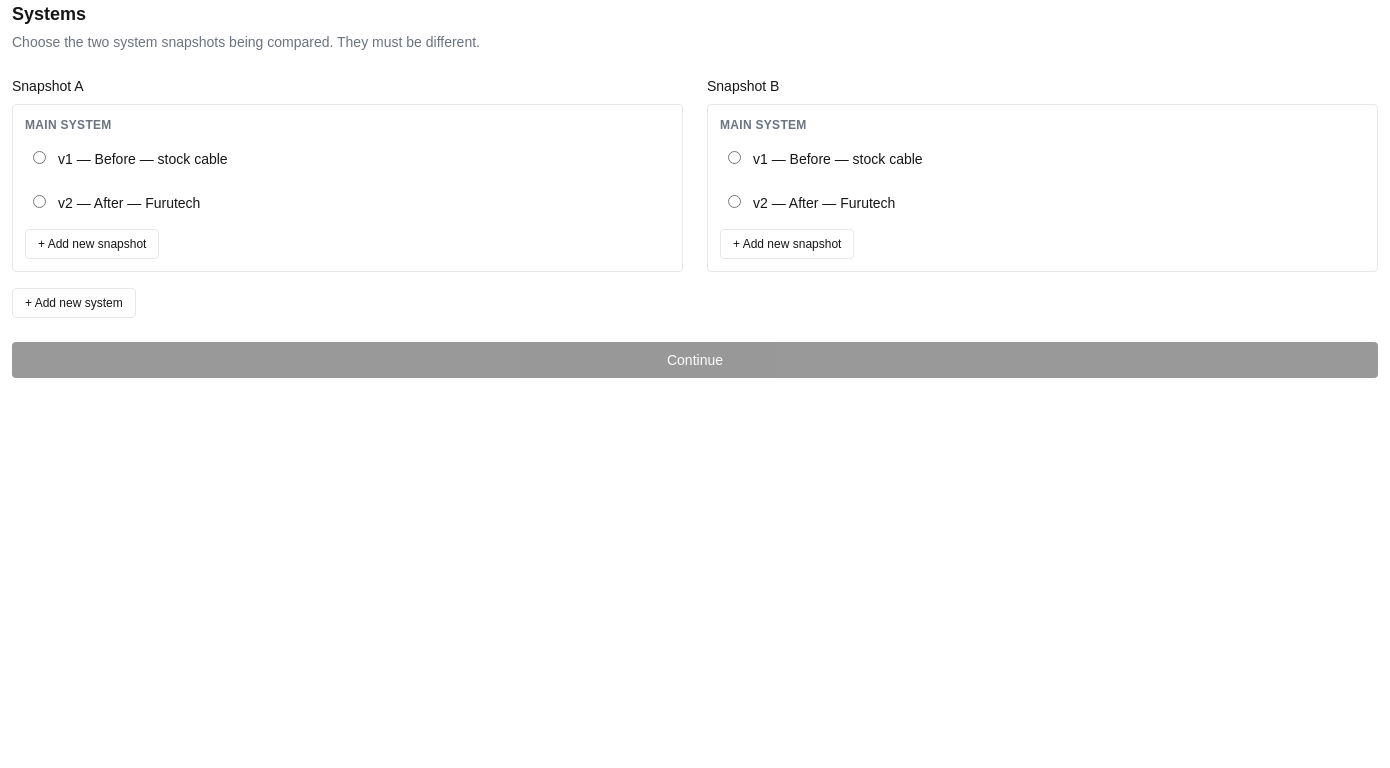
Scenario: StepSnapshots › Inline form — validation › disables "Add snapshot" when label is empty and enables it when filled
Click the button "+ Add new snapshot" below "Snapshot A". click: (92, 244)
box: [25,229,159,259]
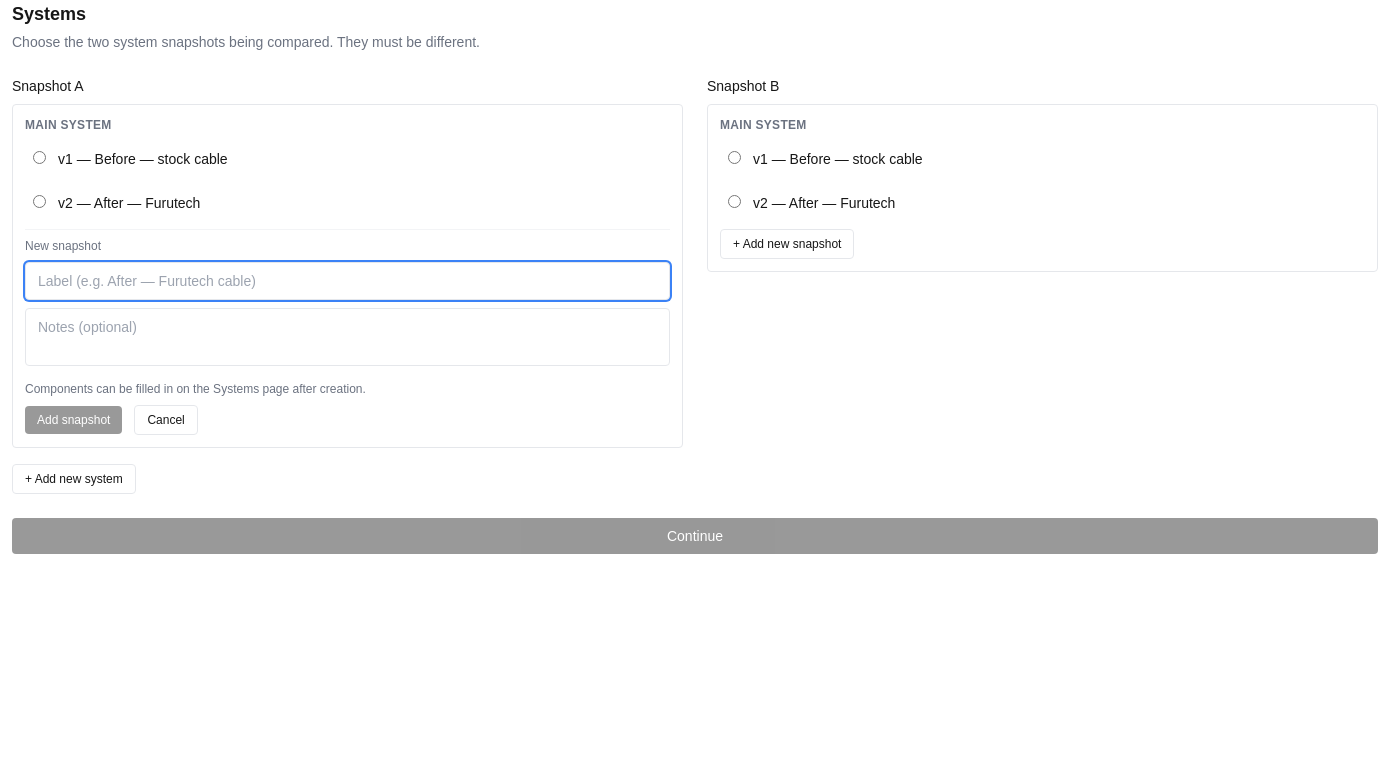
Expected: the button "Add snapshot" is disabled, [25,406,122,434]
# Enabled after typing
Type "New label" into the field with placeholder "Label (e.g. After — Furutech cable)". click: (348, 281)
box: [25,262,670,300]
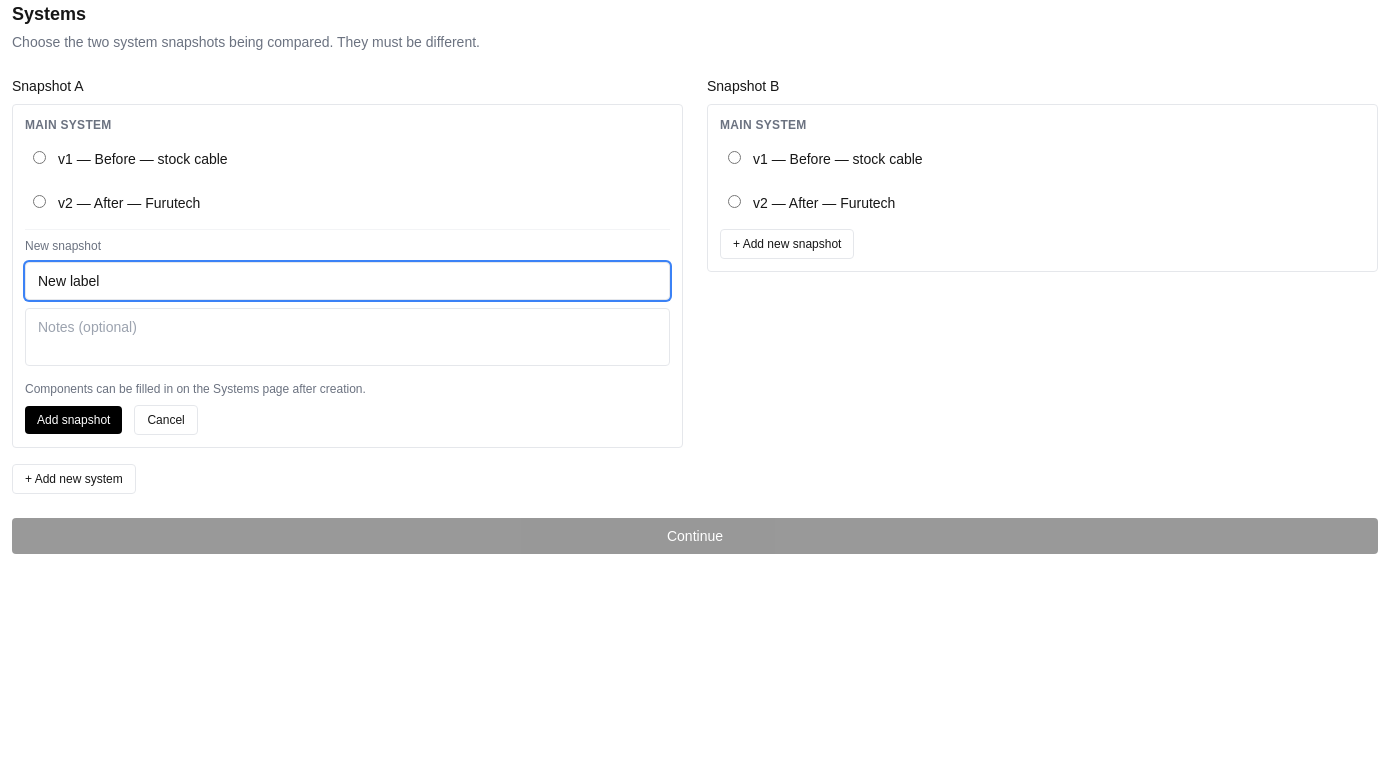
Expected: the button "Add snapshot" is enabled, [25,406,122,434]
